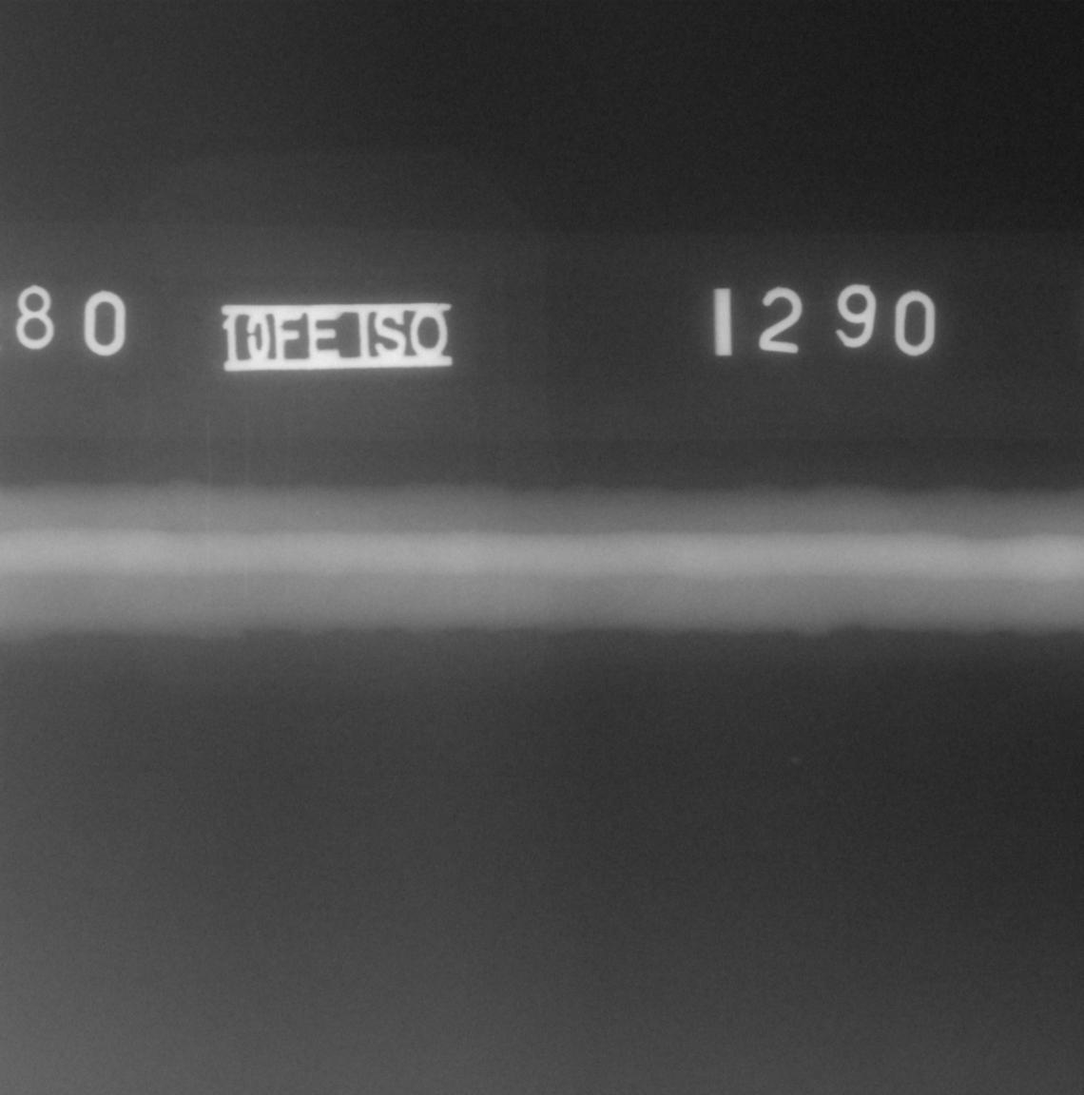Pore/Porosity: (722, 522, 726, 525)
